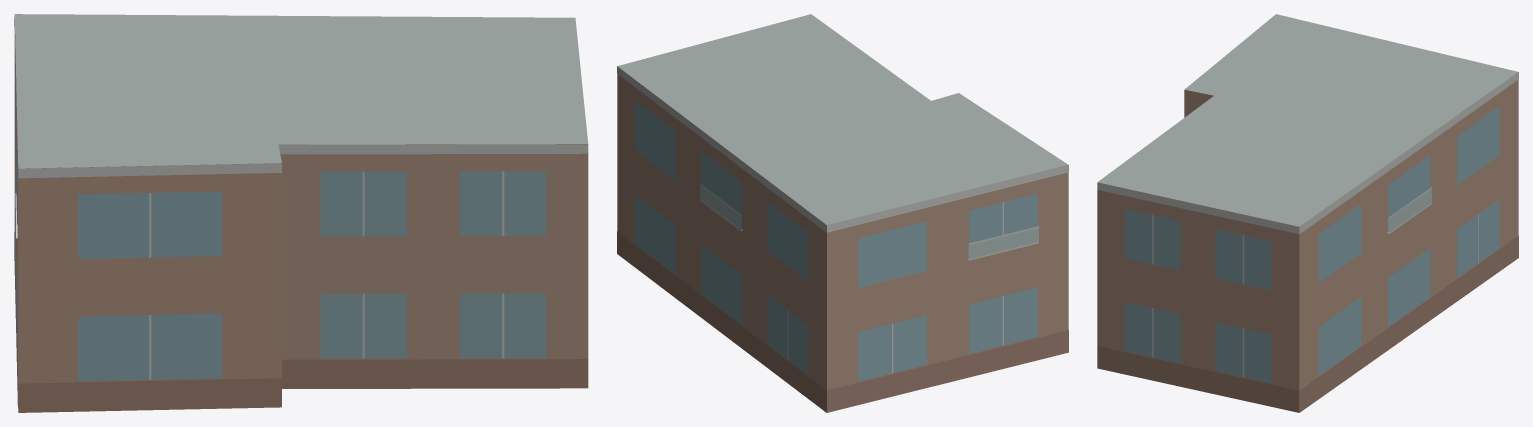
File: survey-upis-32596219.glb
The picture shows the model from 3 angles, left to right: view 1: azimuth 30°, elevation 25°; view 2: azimuth 150°, elevation 25°; view 3: azimuth 270°, elevation 25°; orthographic projection. The views are drawn at different scales.
Visible parts, largest first — view 1: survey-upis-32596219.tmp; view 2: survey-upis-32596219.tmp; view 3: survey-upis-32596219.tmp.
Boxes of the visible parts, x1=… form: survey-upis-32596219.tmp: x1=14, y1=14, x2=588, y2=412; survey-upis-32596219.tmp: x1=617, y1=14, x2=1068, y2=412; survey-upis-32596219.tmp: x1=1097, y1=14, x2=1518, y2=412.
Size of the model in its own units: 14.97 by 6.1 by 12.53.
